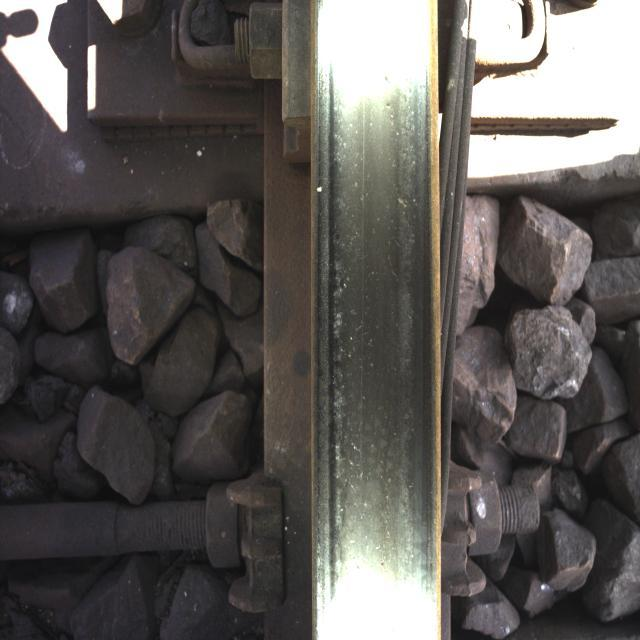break: (331, 66, 430, 565)
